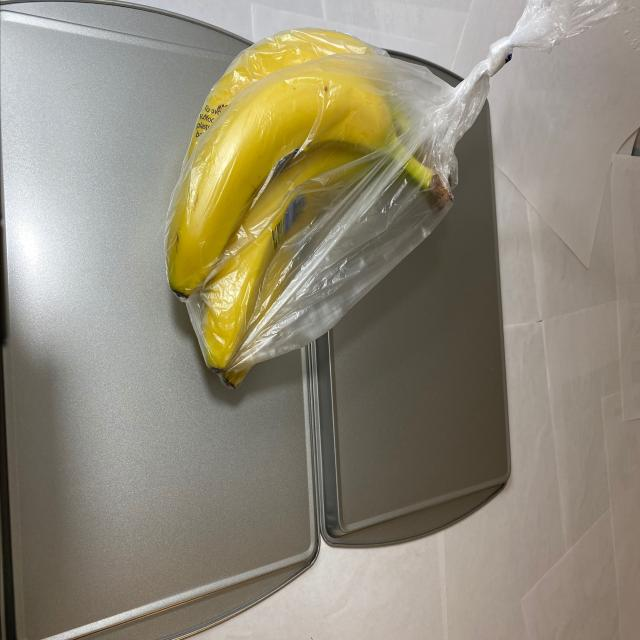banana: (163, 30, 467, 399)
